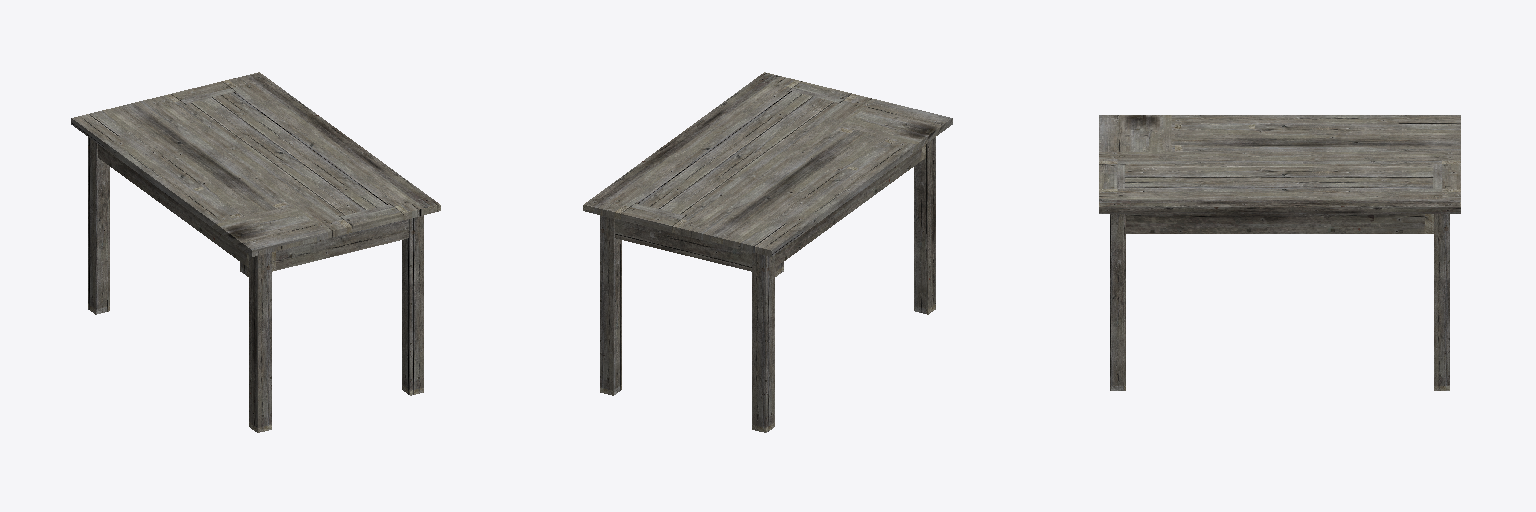
3 views of the same model, side by side, from view 1: azimuth 30°, elevation 25°; view 2: azimuth 150°, elevation 25°; view 3: azimuth 270°, elevation 25° (orthographic).
Bounding box in the file's own units: 0.75 × 0.7213 × 1.25.
1 materials, 1 textured.